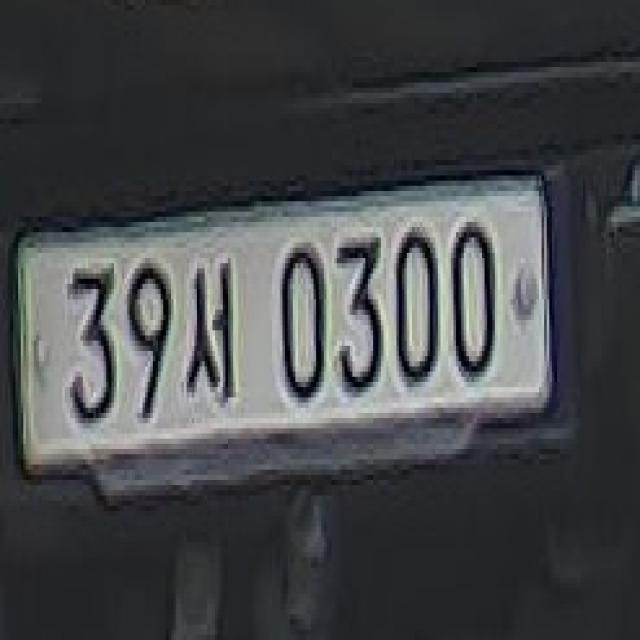0: (274, 237, 326, 408), (448, 217, 498, 382), (392, 227, 441, 387)
3: (67, 258, 122, 423), (337, 232, 383, 398)
9: (122, 253, 174, 423)
license_plate: (13, 155, 554, 480)
seo: (182, 248, 238, 408)
